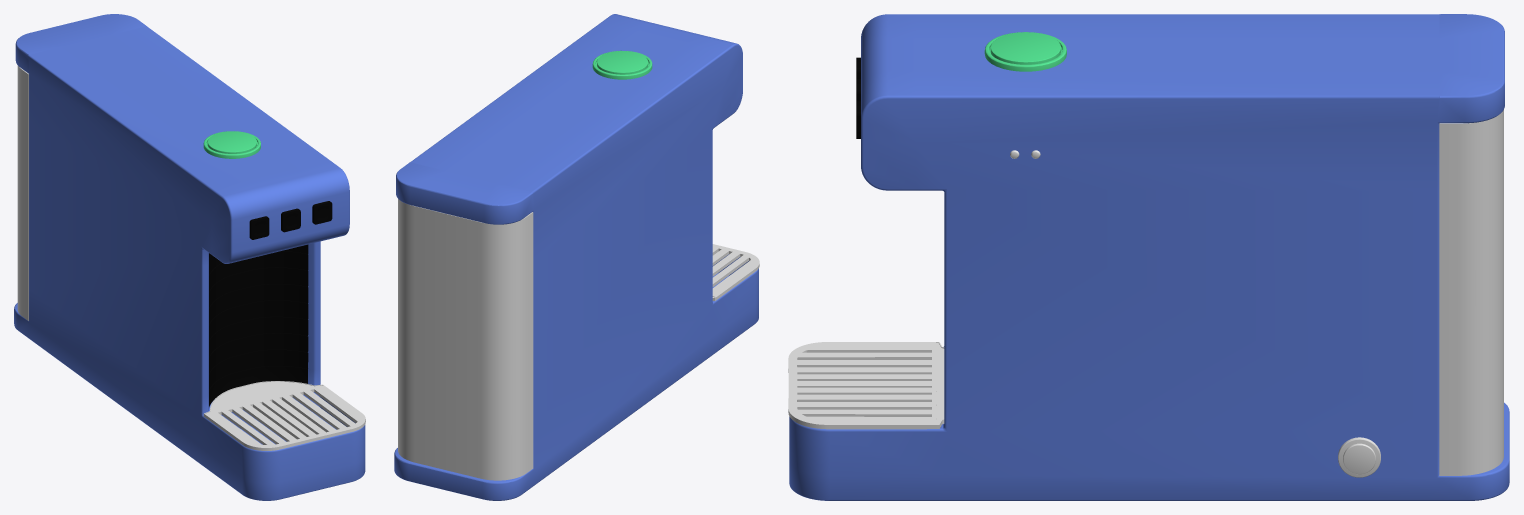
Rendered from Berkay.fbx.
3 renders of one model, left to right at view 1: azimuth 30°, elevation 25°; view 2: azimuth 150°, elevation 25°; view 3: azimuth 270°, elevation 25°, orthographic. The views are drawn at different scales.
Parts seen in each view (by area): view 1: Cube, Cube.001, Cube.002, Cylinder, Cube.004; view 2: Cube, Cube.002, Cube.001, Cylinder; view 3: Cube, Cube.002, Cube.001, Cylinder, Cylinder.001.
Part boxes in pixels (box(x1,y1,x2,y2)): Cube: box(14, 14, 365, 500); Cube.001: box(203, 381, 365, 450); Cube.002: box(17, 65, 28, 320); Cylinder: box(203, 131, 260, 158); Cube.004: box(249, 201, 332, 239); Cube: box(394, 14, 758, 500); Cube.002: box(398, 199, 533, 480); Cube.001: box(712, 244, 759, 301); Cylinder: box(592, 50, 652, 79); Cube: box(789, 14, 1509, 500); Cube.002: box(1439, 110, 1503, 475); Cube.001: box(788, 342, 944, 429); Cylinder: box(984, 32, 1066, 71); Cylinder.001: box(1338, 437, 1380, 477).
Size of the model in its own units: 108 by 242 by 384.
